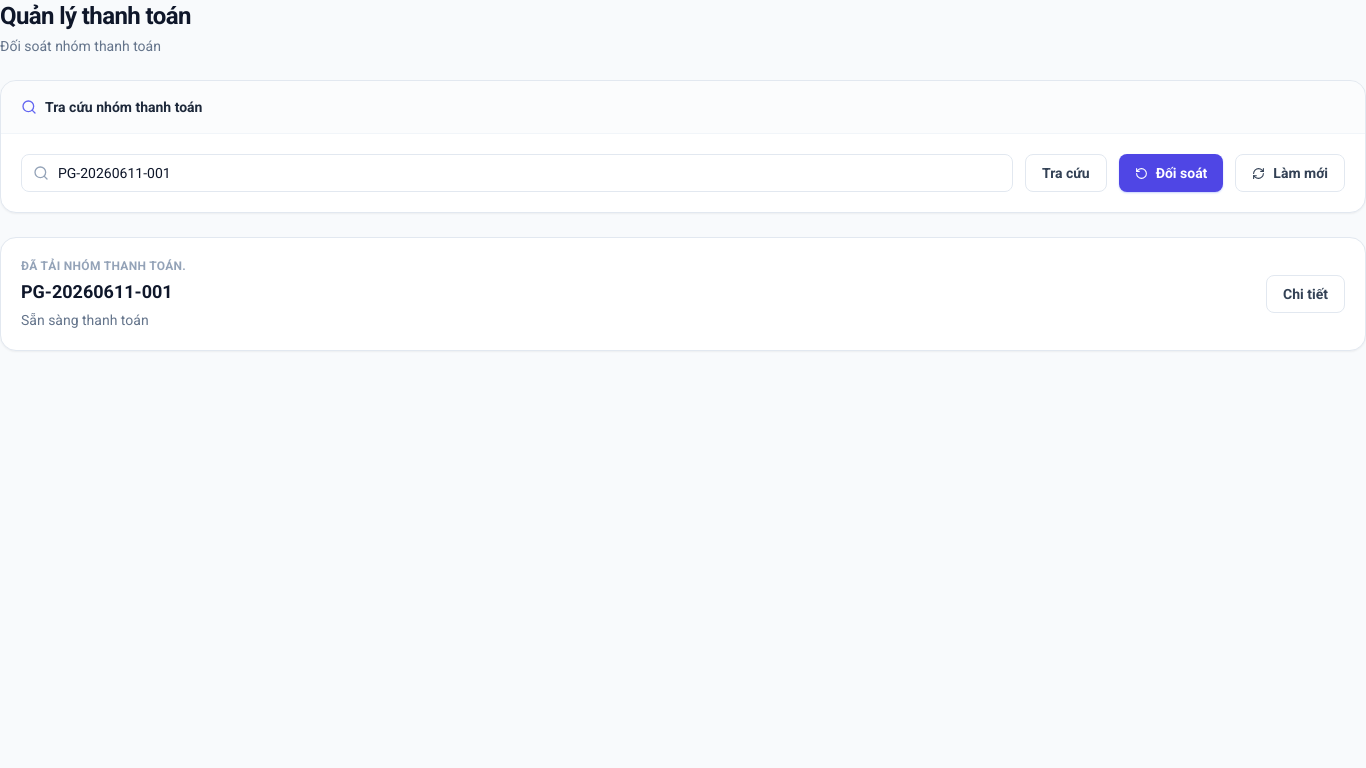
Test case: AdminPaymentsPage › looks up a payment group and displays reconcile result
The width and height of the screenshot is (1366, 768).
Expected: the heading "PG-20260611-001" is shown, [21,278,186,306]
Click the button "Chi tiết" at (1306, 294), box [1266,275,1345,313]
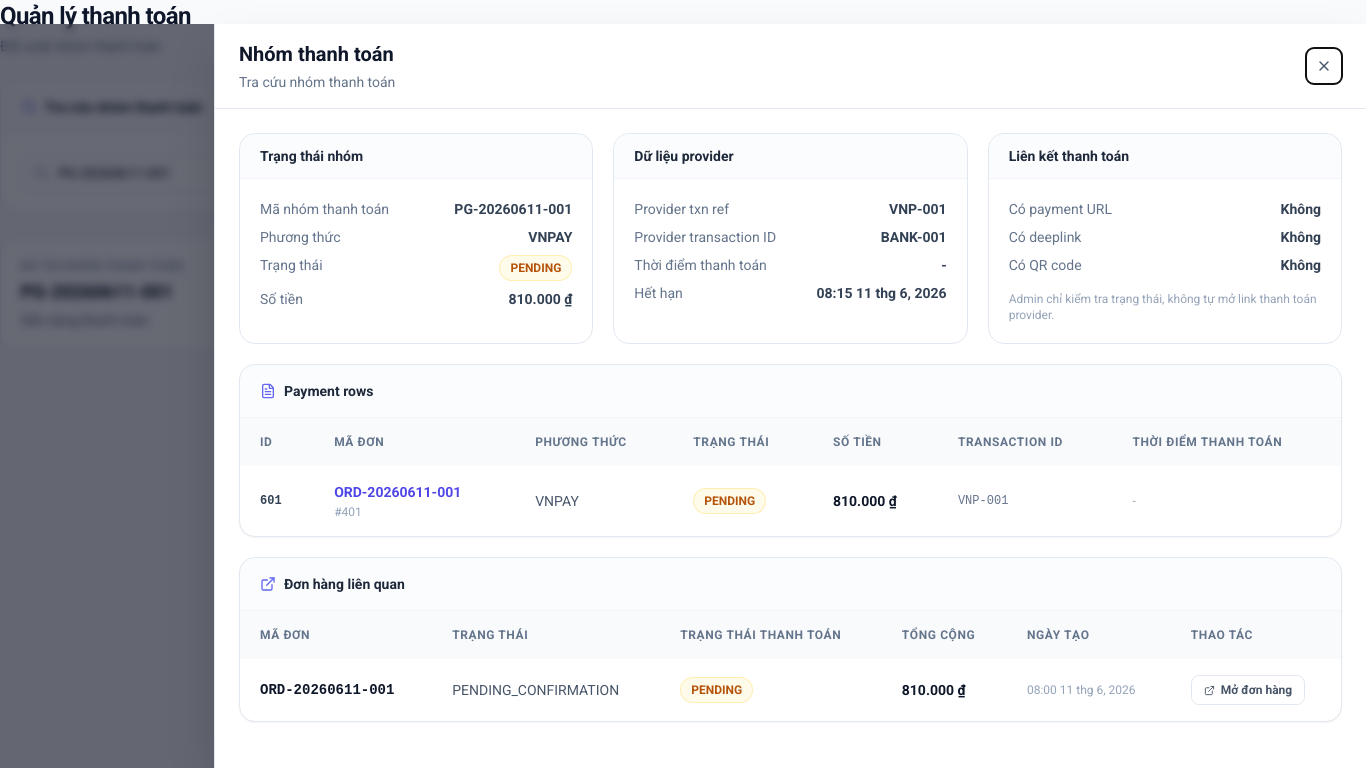
Expected: the link "ORD-20260611-001" is shown, [334,484,461,500]
Click the button named "close" at (1324, 66), box [1306,48,1342,84]
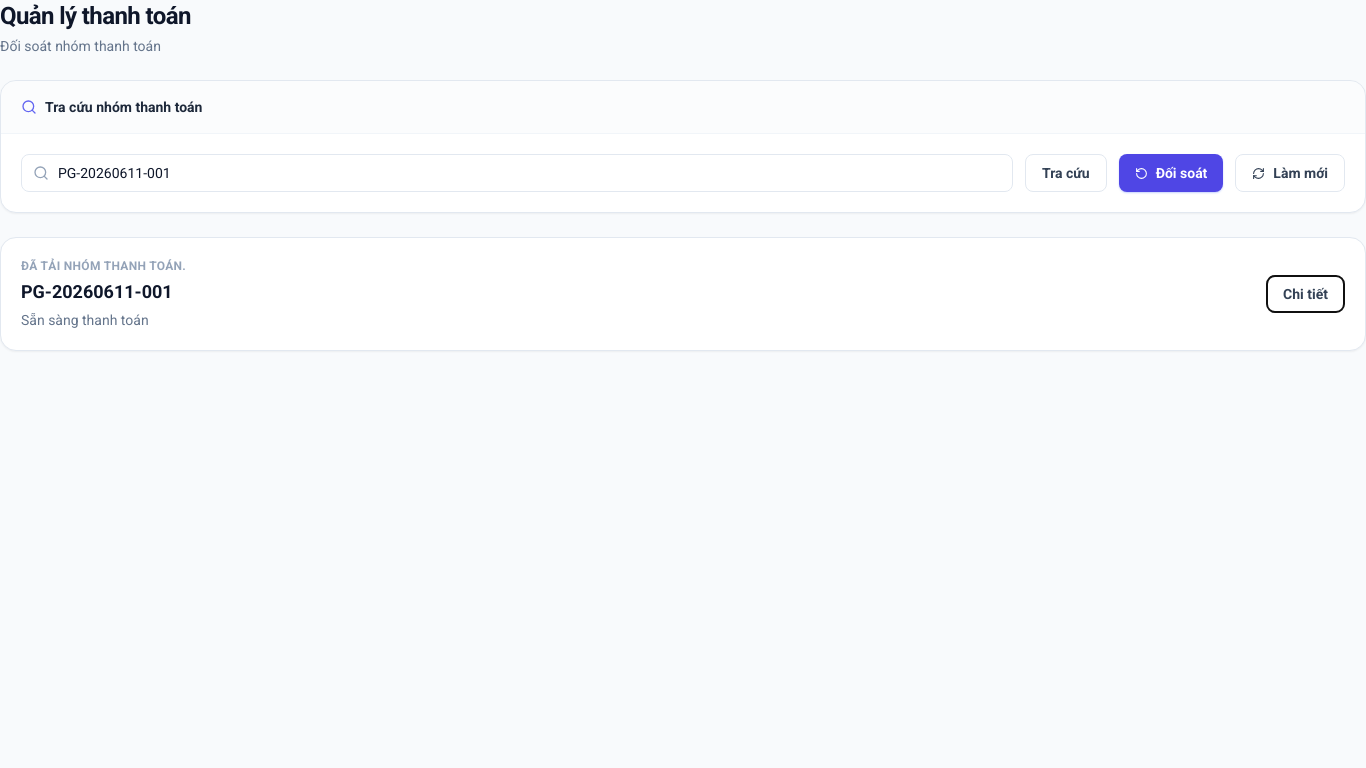
Click the button "Đối soát" at (1171, 173), box [1119,154,1223,192]
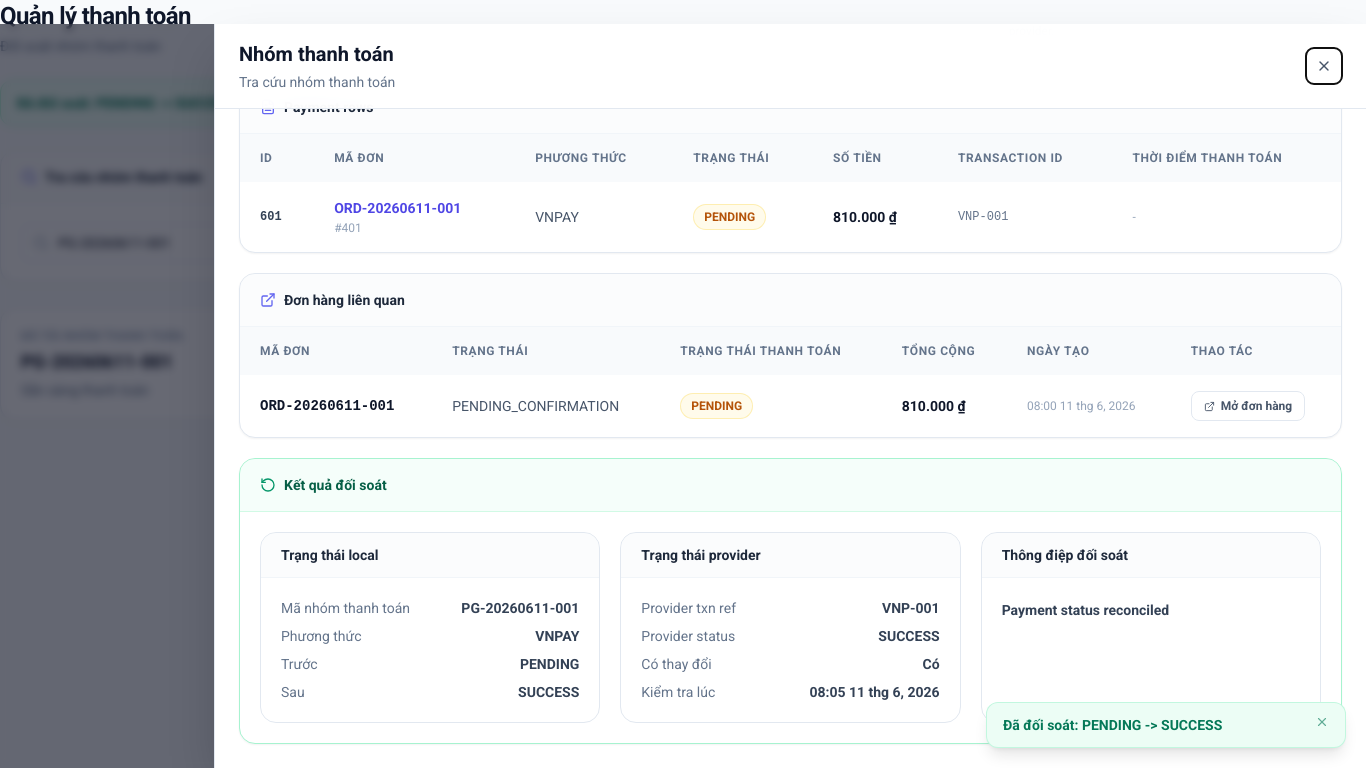
Expected: the text "Payment status reconciled" is shown, [1002,602,1169,618]
